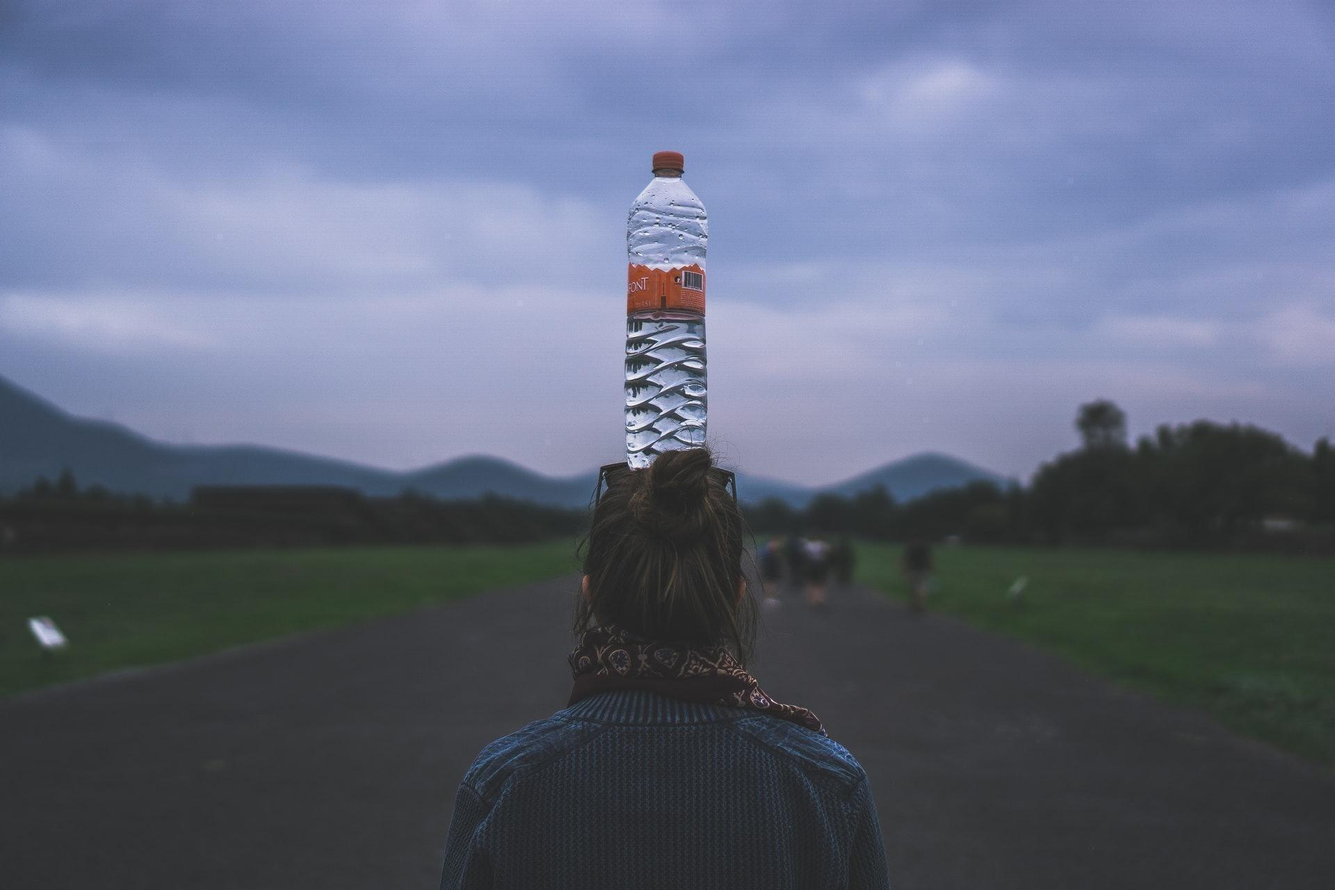bottle-plastic: (620, 149, 713, 469)
